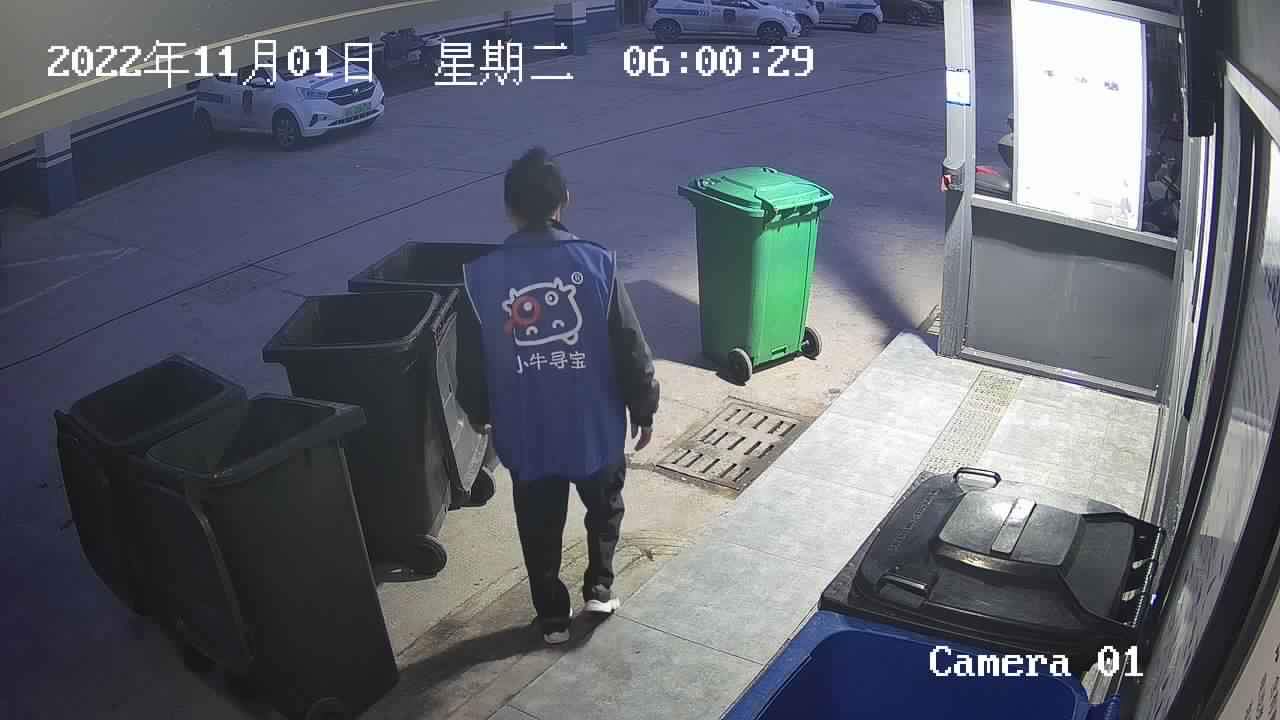worker: (452, 145, 662, 647)
